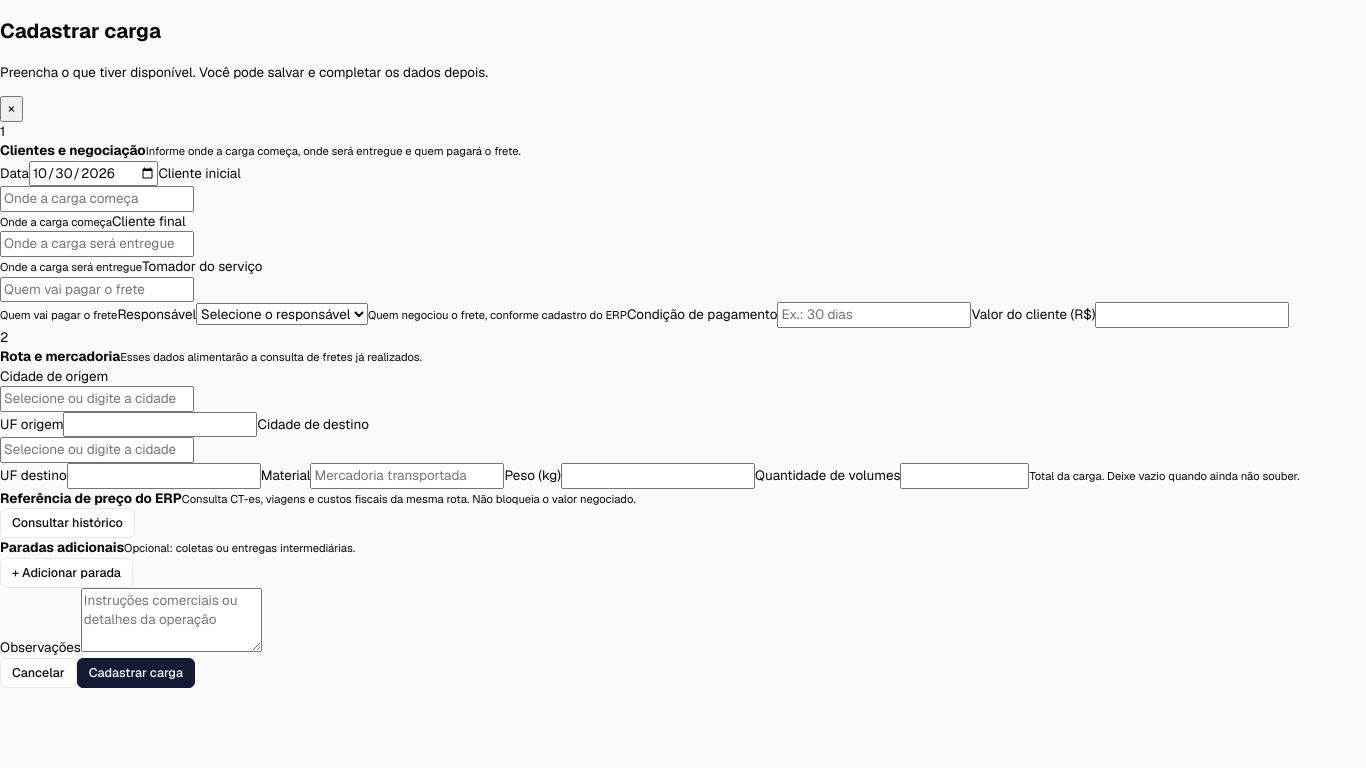
Test: autocomplete ignora cliente de uma pesquisa anterior mais lenta
Type "Antigo" into the field with placeholder "Onde a carga começa" at (97, 199), box [0,186,194,212]
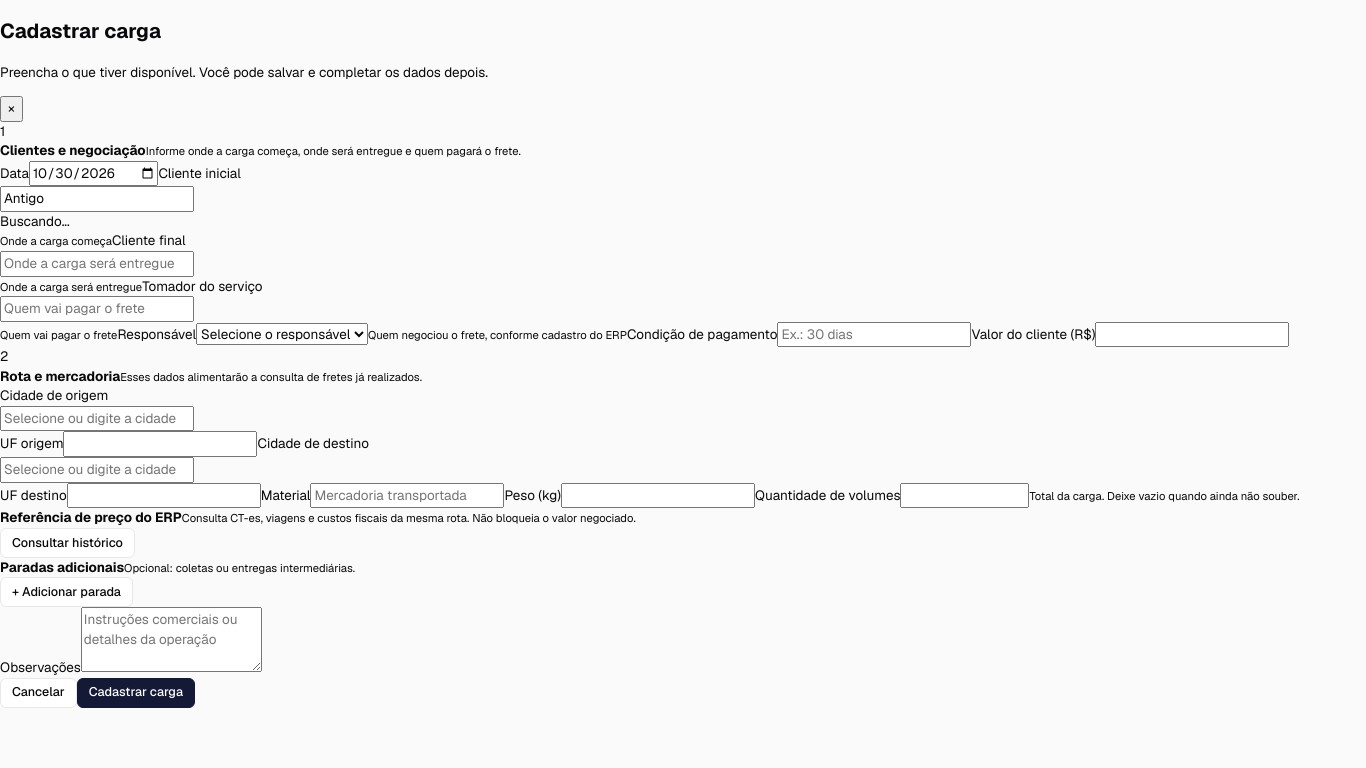
Replace the text in the field with placeholder "Onde a carga começa" with "Novo" at (97, 199), box [0,186,194,212]
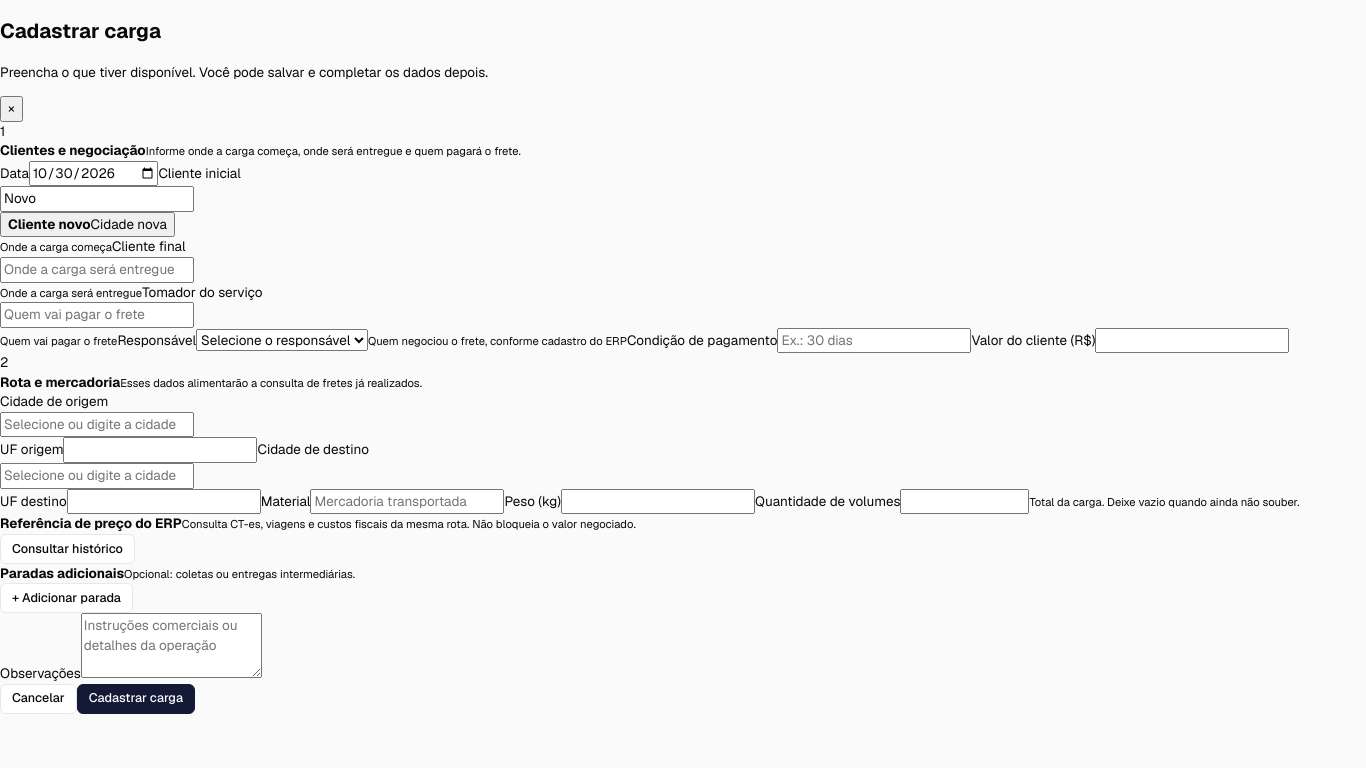
Result: the button "Cliente novo" is shown
Click the button "Cliente novo" at (87, 225), box [0,212,175,237]
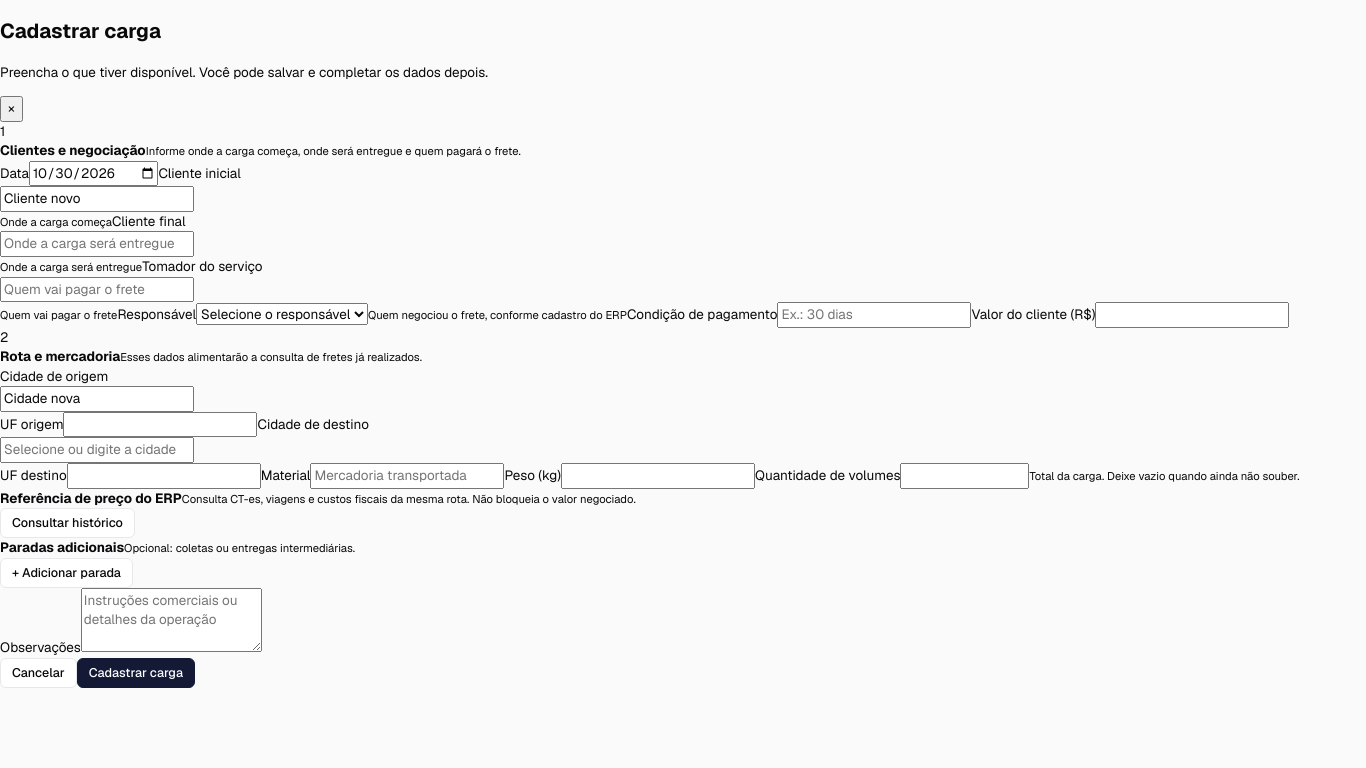
Result: the field with placeholder "Onde a carga começa" holds "Cliente novo" at [0,186,194,212]
